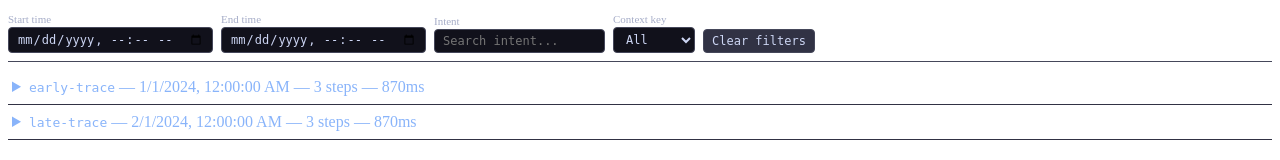
Test: TraceTab › filter by timestamp › filters by timestamp range
Note: 2024-01-15T00:00 local time — always after earlyTime (Jan 1) but before lateTime (Feb 1)
Type "2024-01-15T00:00" into the field named "Filter by start time" at (110, 40), box [8,27,213,53]
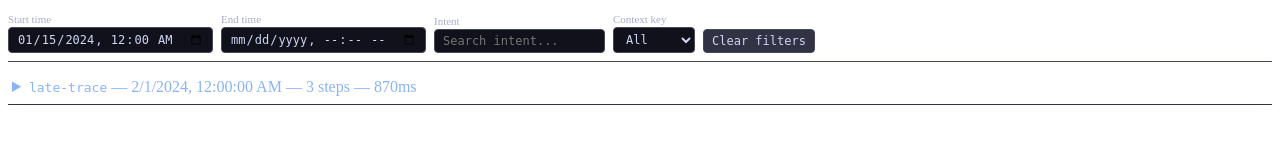
Check: the text "late-trace" is shown, box [29,80,107,95]
Check: the heading "early-trace" is gone
